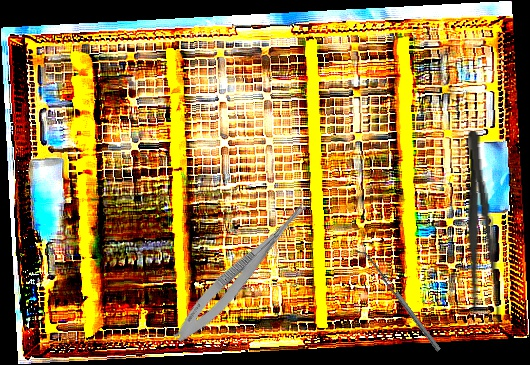Dressing Forceps: (457, 129, 505, 326)
Micro Scissor: (168, 188, 318, 350)
Spatula Surgical: (354, 245, 442, 355)
